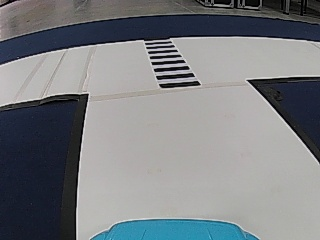CrossWalk: (139, 38, 203, 89)
